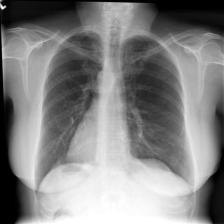normal: (32, 26, 200, 224)
